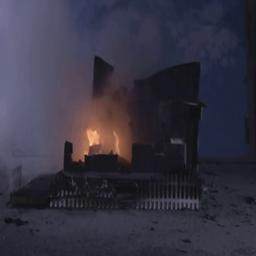fire: (69, 94, 128, 164)
smoke: (1, 0, 175, 113)
